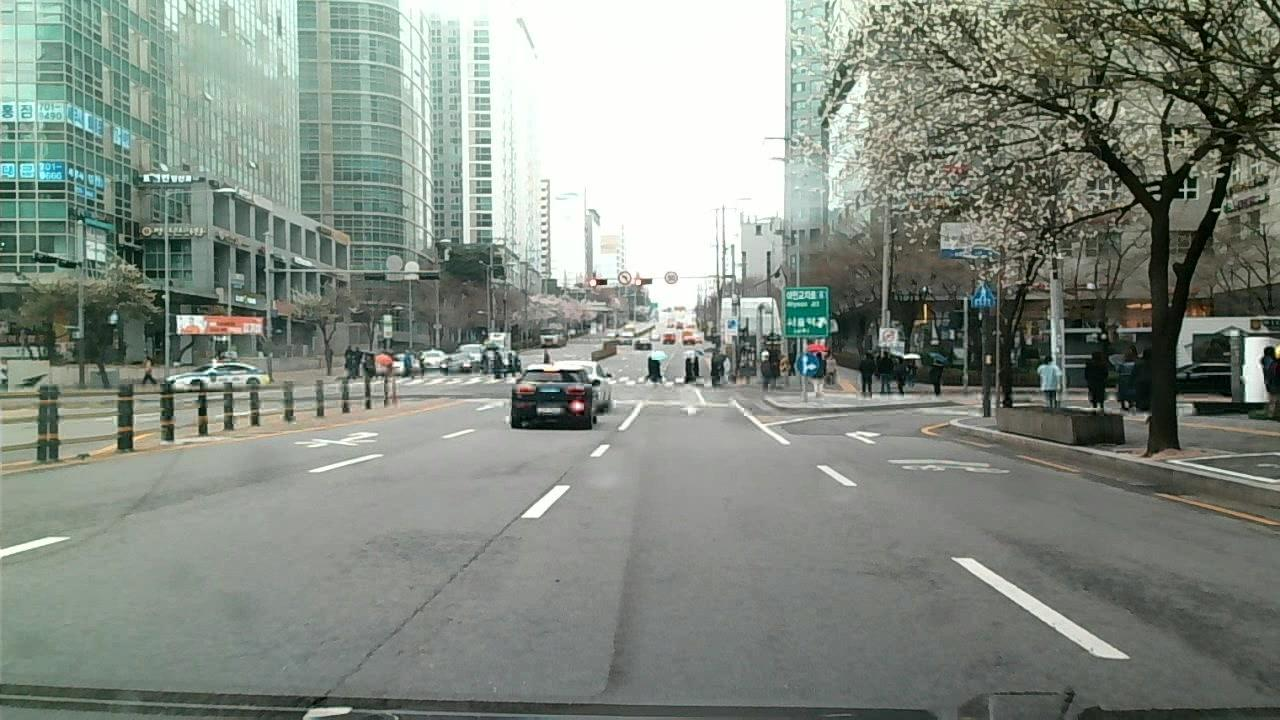banner: (311, 516, 515, 703), (597, 549, 633, 699)
